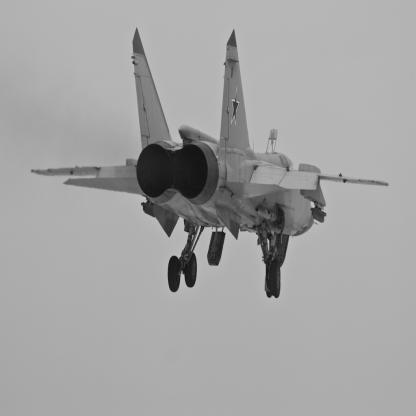Mig31: (32, 28, 389, 299)
